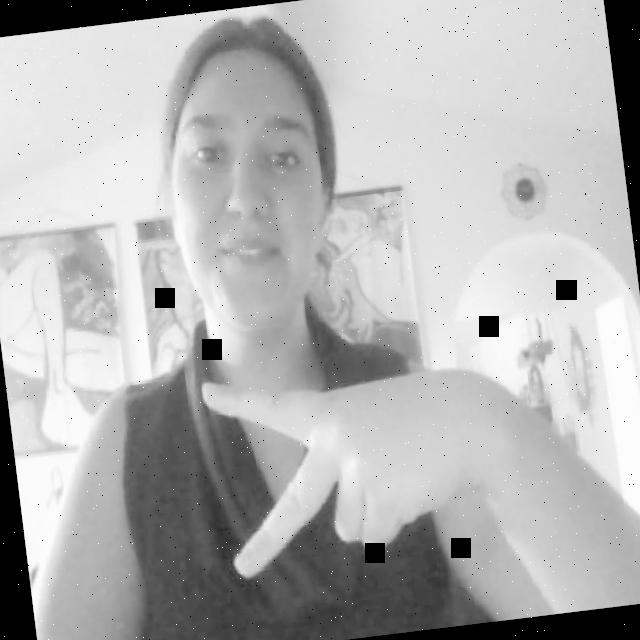Scissors: (191, 345, 507, 587)
